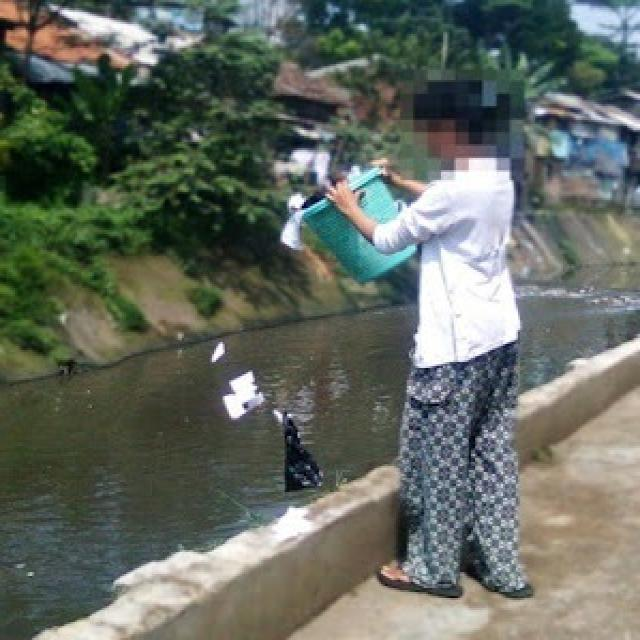sampah-detection: (270, 410, 330, 500), (220, 367, 268, 423), (278, 186, 312, 257)
